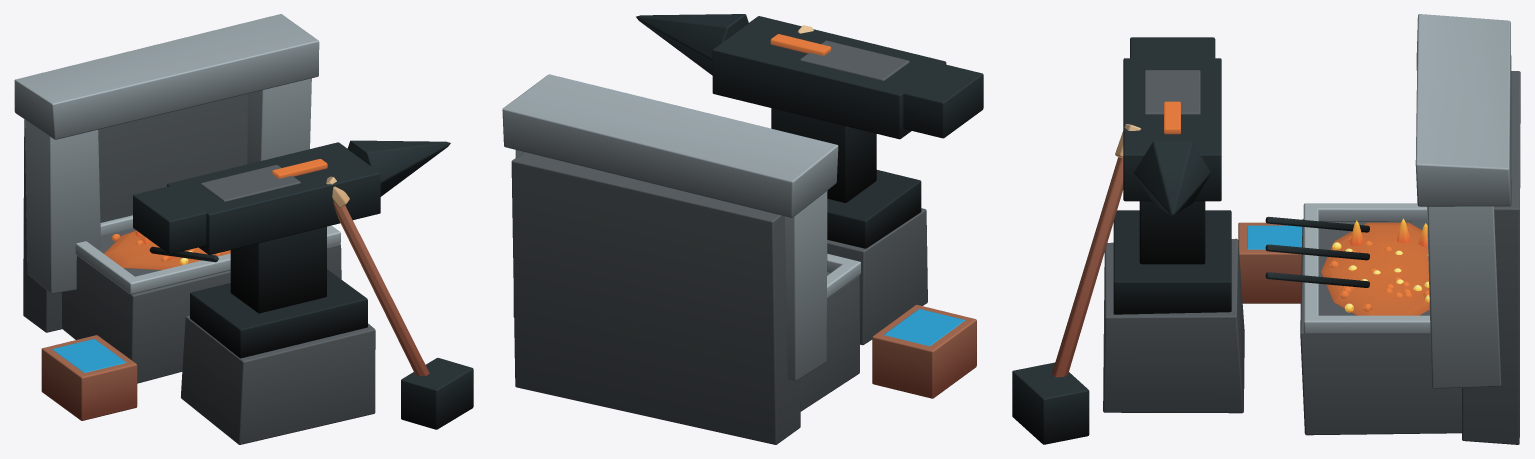
Rendered from giant_anvil.glb.
The picture shows the model from 3 angles, left to right: view 1: azimuth 30°, elevation 25°; view 2: azimuth 150°, elevation 25°; view 3: azimuth 270°, elevation 25°; orthographic projection. The views are drawn at different scales.
Parts seen in each view (by area): view 1: giant_anvil; view 2: giant_anvil; view 3: giant_anvil.
Boxes of the visible parts, x1,y1,x2,y2 form: giant_anvil: [14, 14, 473, 444]; giant_anvil: [502, 14, 983, 444]; giant_anvil: [1012, 14, 1520, 444].
Size of the model in its own units: 4.85 by 3.48 by 5.43.
Materials: 5 (5 with a texture image).
